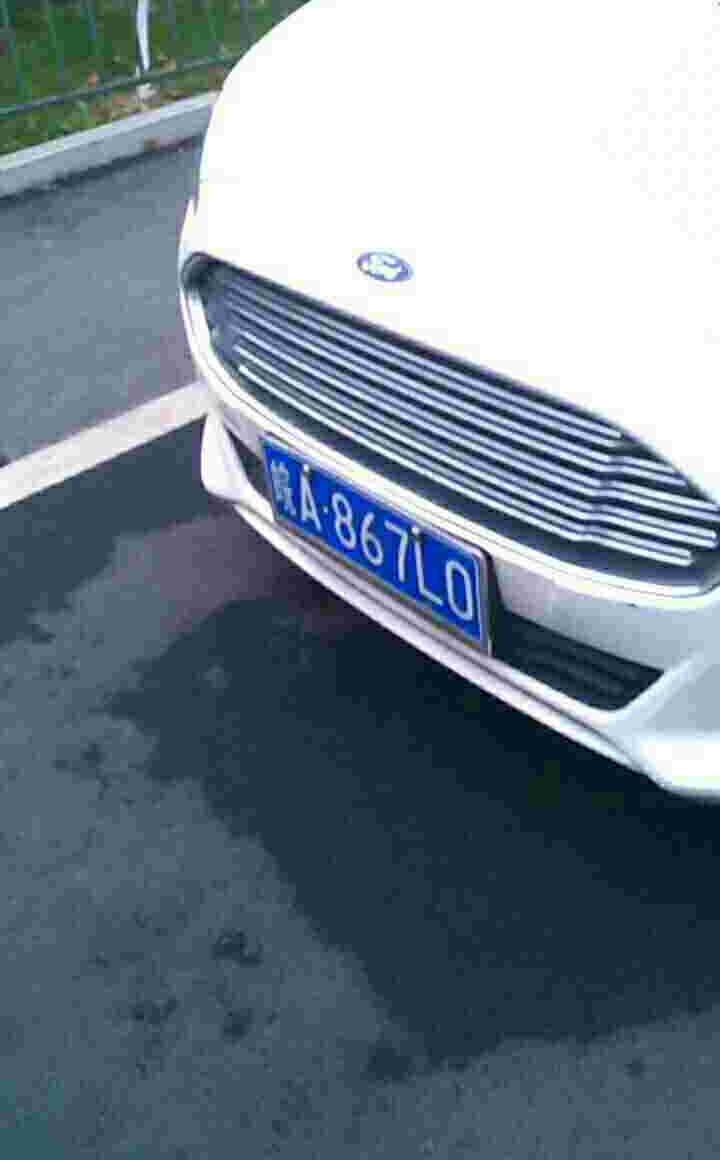license_plate: (272, 445, 491, 639)
